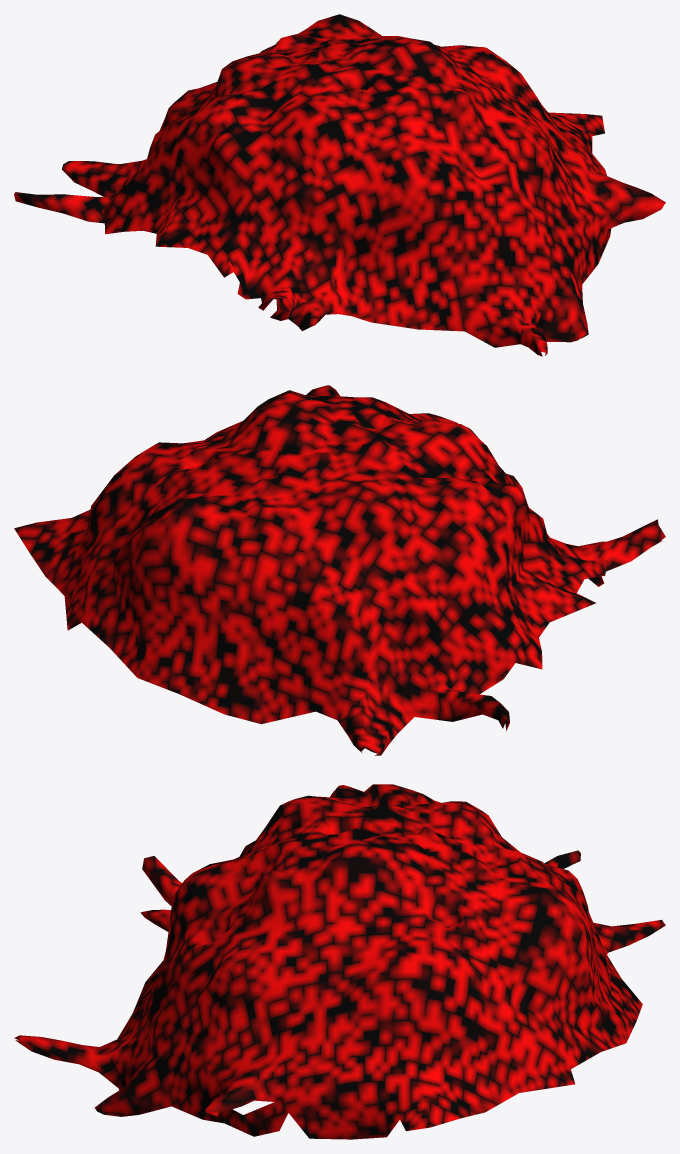
File: SM_Fellenarchishop_Heart_01_GDH.fbx
The picture shows the model from 3 angles, top to bottom: view 1: azimuth 30°, elevation 25°; view 2: azimuth 150°, elevation 25°; view 3: azimuth 270°, elevation 25°; orthographic projection. The views are drawn at different scales.
Visible parts, largest first — view 1: SM_Fellenarchishop_Heart_01_GDH; view 2: SM_Fellenarchishop_Heart_01_GDH; view 3: SM_Fellenarchishop_Heart_01_GDH.
Boxes of the visible parts, x1,y1,x2,y2 form: SM_Fellenarchishop_Heart_01_GDH: (14, 14, 665, 356); SM_Fellenarchishop_Heart_01_GDH: (14, 385, 665, 755); SM_Fellenarchishop_Heart_01_GDH: (14, 784, 665, 1139).
Bounding box in the file's own units: 76.63 × 31.35 × 76.17.
